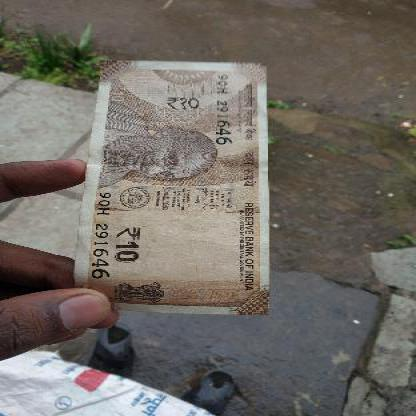New10Front: (92, 60, 266, 308)
